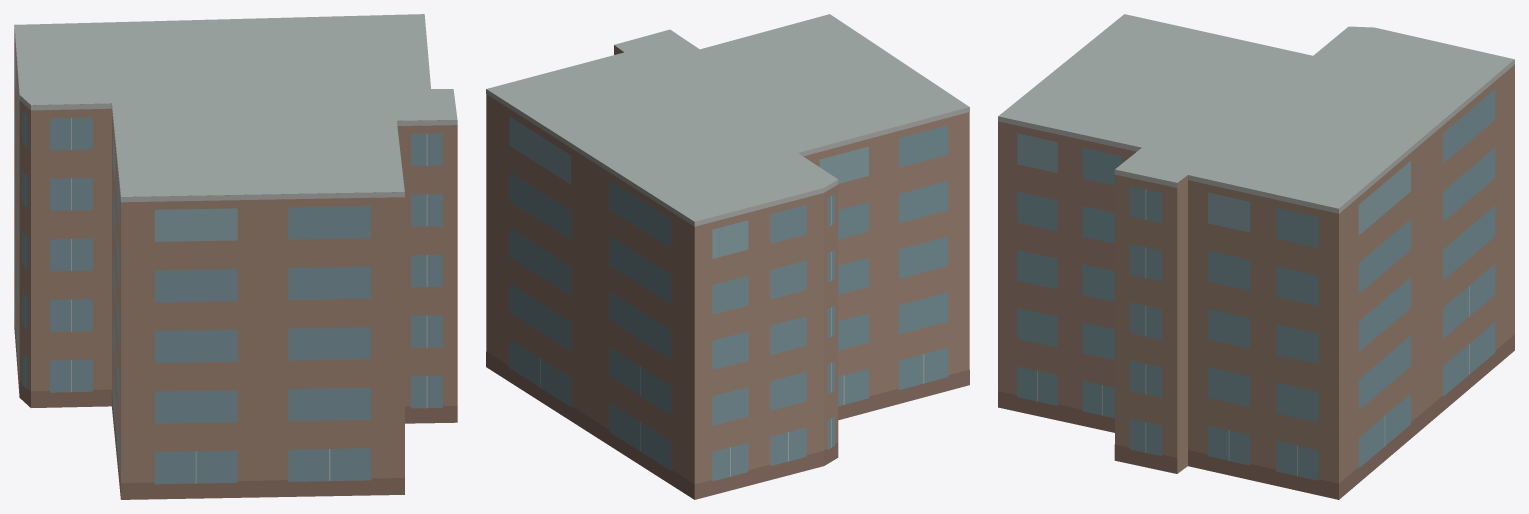
Rendered from survey-upis-32519024.glb.
3 renders of one model, left to right at view 1: azimuth 30°, elevation 25°; view 2: azimuth 150°, elevation 25°; view 3: azimuth 270°, elevation 25°, orthographic. The views are drawn at different scales.
Visible parts, largest first — view 1: survey-upis-32519024.tmp; view 2: survey-upis-32519024.tmp; view 3: survey-upis-32519024.tmp.
Boxes of the visible parts, x1,y1,x2,y2 form: survey-upis-32519024.tmp: [14, 14, 457, 499]; survey-upis-32519024.tmp: [486, 14, 969, 499]; survey-upis-32519024.tmp: [998, 14, 1514, 499].
Size of the model in its own units: 20.1 by 14 by 22.53.
